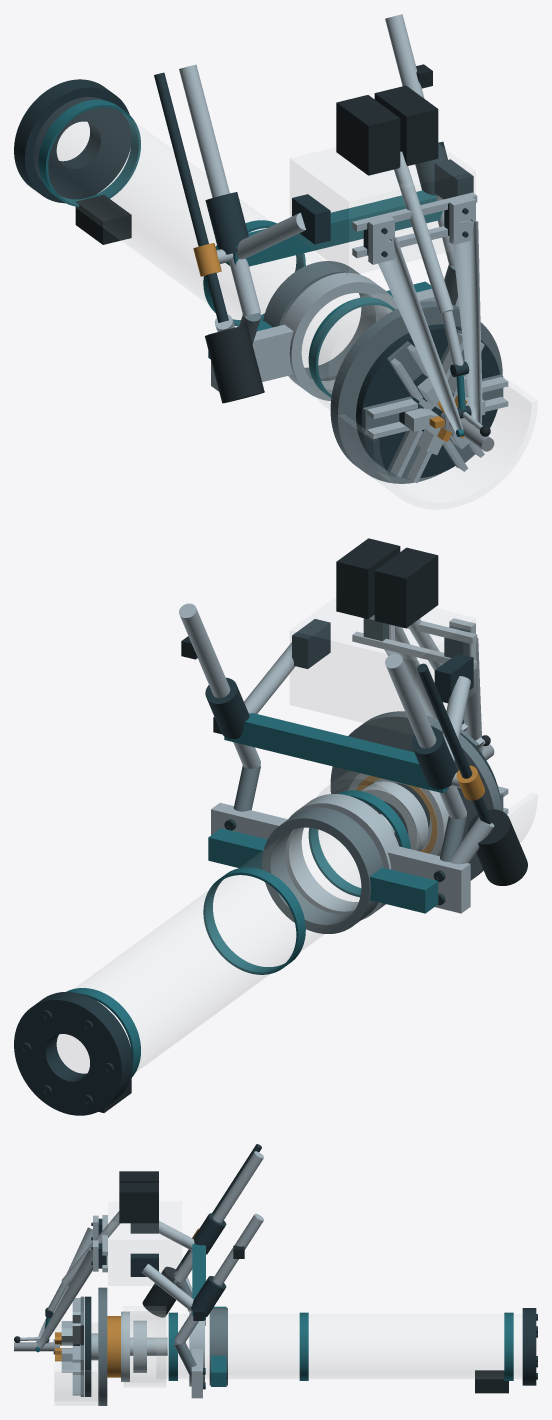
The model's file is a-assembly-review.glb.
3 views of the same model, one above another, from view 1: azimuth 30°, elevation 25°; view 2: azimuth 150°, elevation 25°; view 3: azimuth 270°, elevation 25° (orthographic). The views are drawn at different scales.
Visible parts, largest first — view 1: 01-SPINDLE-INSTALLATION-ENVELOPE, 05-GRIPPER-INSTALLATION-ENVELOPE-NOT-SELECTED, robot-adapter-bore, 02-FRONT-HALF-GUARD-REAR-OPEN, 08A-tendon-drive-envelope (×2), chuck-rear-mounting-ring, 07-10mm-guide-shaft (×2), rotor-back-flange, spindle-clamp-band (×3), slide-support-collar, 09-STATIONARY-CLAMP-ACTUATOR-ENVELOPE, 06-SHARP-TAPERED-FINGER--1 (+19 smaller); view 2: 01-SPINDLE-INSTALLATION-ENVELOPE, 05-GRIPPER-INSTALLATION-ENVELOPE-NOT-SELECTED, robot-adapter-bore, 08A-tendon-drive-envelope (×2), moving-crossmember, reaction-collar, spindle-clamp-band (×3), 07-10mm-guide-shaft (×2), slide-support-collar, slide-mounting-ear (×2), 10-REACTION-TAB (×2), chuck-rear-mounting-ring (+14 smaller); view 3: 01-SPINDLE-INSTALLATION-ENVELOPE, 05-GRIPPER-INSTALLATION-ENVELOPE-NOT-SELECTED, 09-STATIONARY-CLAMP-ACTUATOR-ENVELOPE, 07-10mm-guide-shaft (×2), 08A-tendon-drive-envelope (×2), spindle-clamp-band (×3), 02-FRONT-HALF-GUARD-REAR-OPEN, 07-linear-bushing-carriage (×2), pickup-cradle-support (×2), chuck-rear-mounting-ring, robot-adapter-bore, 06-SHARP-TAPERED-FINGER-1 (+18 smaller).
Boxes of the visible parts, left/top/right/bottom form: 01-SPINDLE-INSTALLATION-ENVELOPE: left=34, top=97, right=365, bottom=374; 05-GRIPPER-INSTALLATION-ENVELOPE-NOT-SELECTED: left=290, top=145, right=475, bottom=275; robot-adapter-bore: left=14, top=79, right=131, bottom=203; 02-FRONT-HALF-GUARD-REAR-OPEN: left=337, top=377, right=537, bottom=508; 08A-tendon-drive-envelope (×2): left=336, top=85, right=438, bottom=175; chuck-rear-mounting-ring: left=330, top=301, right=502, bottom=483; 07-10mm-guide-shaft (×2): left=179, top=14, right=454, bottom=316; rotor-back-flange: left=356, top=324, right=499, bottom=477; spindle-clamp-band (×3): left=38, top=99, right=395, bottom=397; slide-support-collar: left=282, top=272, right=397, bottom=400; 09-STATIONARY-CLAMP-ACTUATOR-ENVELOPE: left=309, top=294, right=397, bottom=409; 06-SHARP-TAPERED-FINGER--1: left=378, top=237, right=463, bottom=432; 01-SPINDLE-INSTALLATION-ENVELOPE: left=57, top=787, right=414, bottom=1072; 05-GRIPPER-INSTALLATION-ENVELOPE-NOT-SELECTED: left=290, top=597, right=475, bottom=734; robot-adapter-bore: left=14, top=992, right=132, bottom=1115; 08A-tendon-drive-envelope (×2): left=336, top=538, right=438, bottom=628; moving-crossmember: left=224, top=713, right=448, bottom=793; reaction-collar: left=262, top=807, right=383, bottom=933; spindle-clamp-band (×3): left=66, top=790, right=410, bottom=1078; 07-10mm-guide-shaft (×2): left=179, top=603, right=466, bottom=818; slide-support-collar: left=285, top=794, right=398, bottom=919; slide-mounting-ear (×2): left=211, top=802, right=470, bottom=913; 10-REACTION-TAB (×2): left=208, top=828, right=438, bottom=913; chuck-rear-mounting-ring: left=330, top=711, right=502, bottom=880; 01-SPINDLE-INSTALLATION-ENVELOPE: left=166, top=1315, right=521, bottom=1378; 05-GRIPPER-INSTALLATION-ENVELOPE-NOT-SELECTED: left=108, top=1202, right=181, bottom=1285; 09-STATIONARY-CLAMP-ACTUATOR-ENVELOPE: left=123, top=1306, right=165, bottom=1386; 07-10mm-guide-shaft (×2): left=174, top=1151, right=263, bottom=1344; 08A-tendon-drive-envelope (×2): left=119, top=1171, right=158, bottom=1223; spindle-clamp-band (×3): left=168, top=1312, right=513, bottom=1380; 02-FRONT-HALF-GUARD-REAR-OPEN: left=54, top=1322, right=99, bottom=1405; 07-linear-bushing-carriage (×2): left=191, top=1213, right=226, bottom=1317; pickup-cradle-support (×2): left=141, top=1221, right=194, bottom=1311; chuck-rear-mounting-ring: left=98, top=1287, right=107, bottom=1405; robot-adapter-bore: left=522, top=1308, right=536, bottom=1385; 06-SHARP-TAPERED-FINGER-1: left=36, top=1250, right=92, bottom=1350.
Size of the model in its own units: 0.174 by 0.212 by 0.4605.
